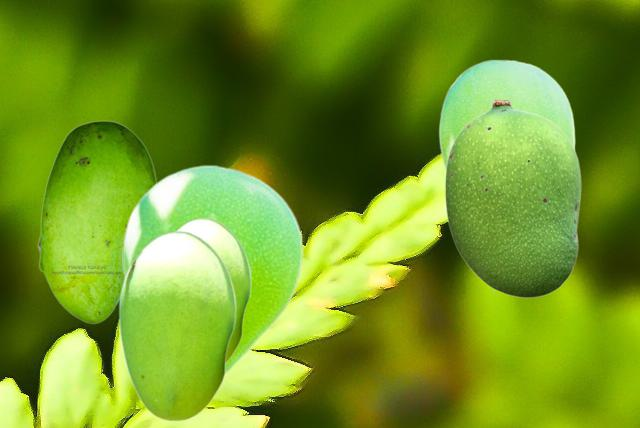green_mango: (122, 164, 302, 376), (444, 98, 580, 297), (37, 120, 157, 323), (118, 230, 235, 420), (438, 59, 574, 172), (176, 217, 250, 363)
